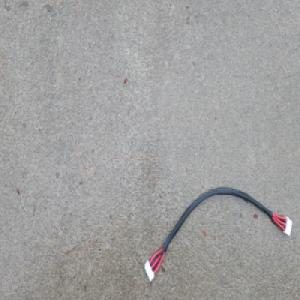Wire: (143, 185, 293, 284)
